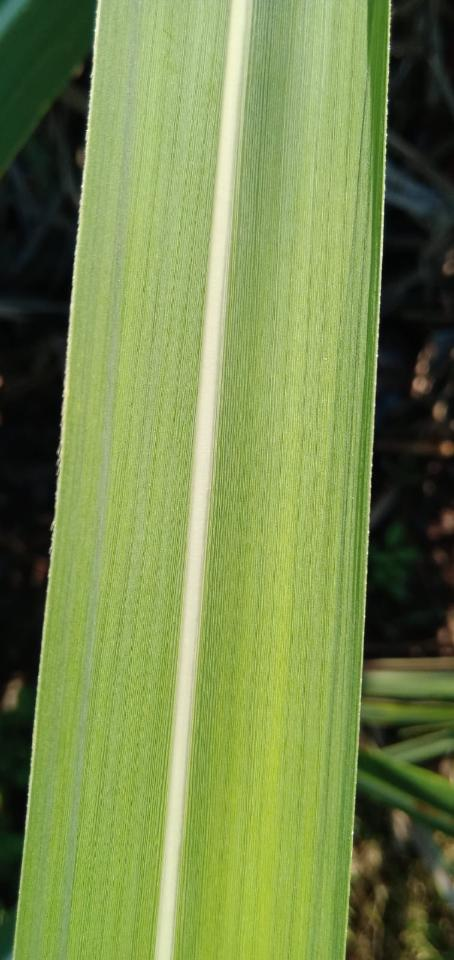Healthy: (14, 0, 385, 959)
